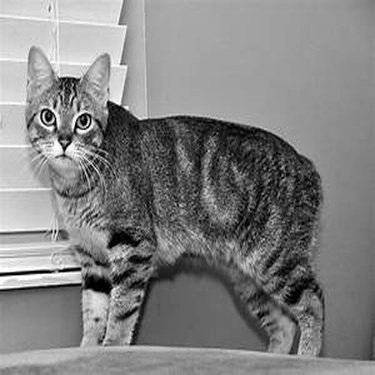cat: (24, 42, 325, 367)
